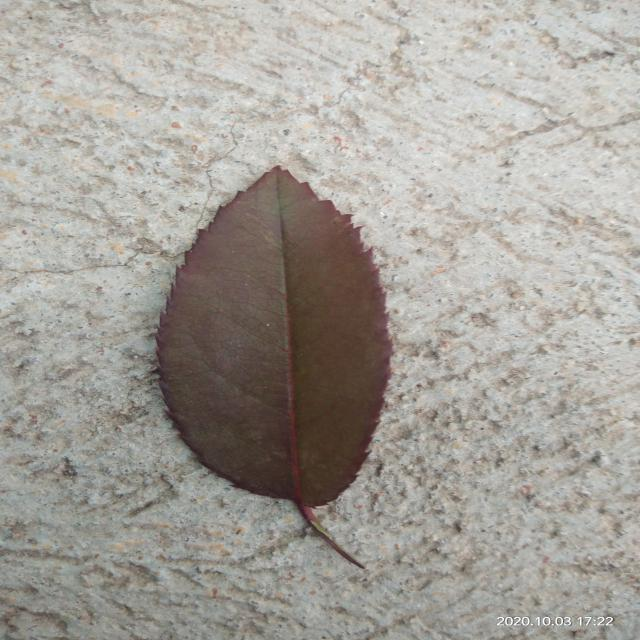rose: (157, 168, 392, 568)
